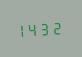four: (29, 20, 39, 37)
one: (18, 21, 28, 37)
three: (40, 20, 50, 36)
two: (51, 19, 61, 35)
